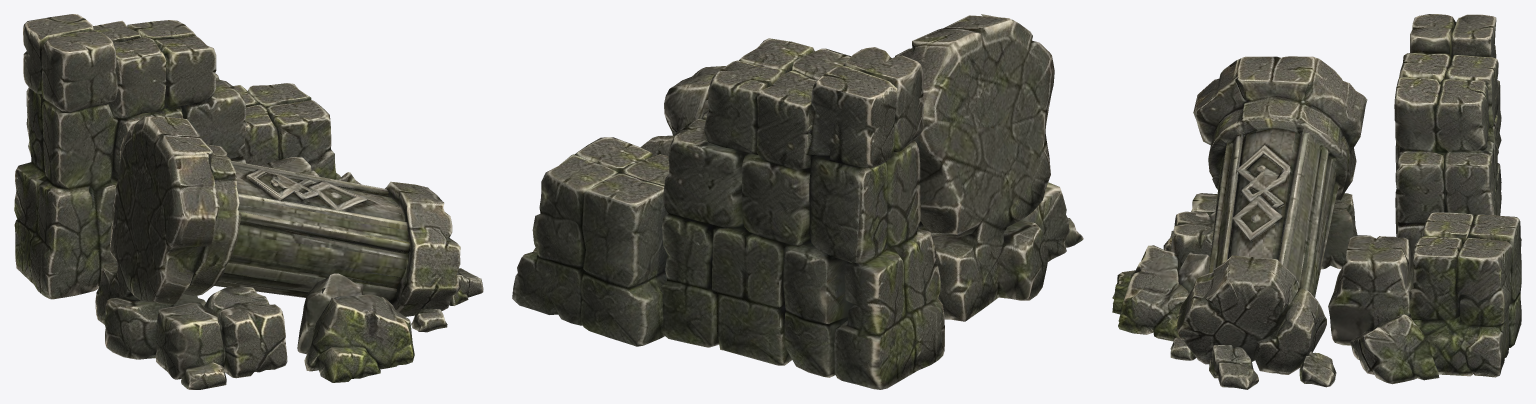
Rendered from kolumna_lezaca.glb.
3 renders of one model, left to right at view 1: azimuth 30°, elevation 25°; view 2: azimuth 150°, elevation 25°; view 3: azimuth 270°, elevation 25°, orthographic. The views are drawn at different scales.
Parts seen in each view (by area): view 1: Mesh_0; view 2: Mesh_0; view 3: Mesh_0.
Part boxes in pixels (x1,y1,x2,y2): Mesh_0: (14,14,483,389); Mesh_0: (512,14,1083,389); Mesh_0: (1112,14,1521,389).
Bounding box in the file's own units: 0.8823 × 0.5854 × 0.9561.
Materials: 1 (1 with a texture image).
